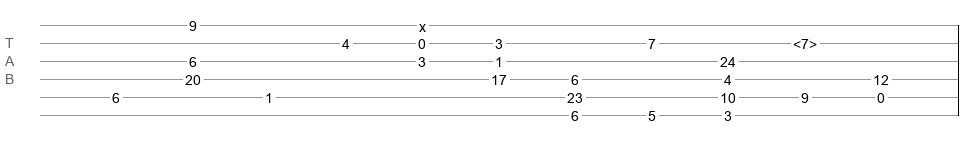0: (418, 36, 426, 46), (877, 90, 885, 100)
1: (265, 90, 273, 100), (495, 54, 503, 64)
10: (720, 90, 736, 100)
12: (873, 72, 889, 82)
17: (491, 72, 507, 82)
20: (185, 72, 201, 82)
23: (567, 90, 583, 100)
24: (720, 54, 736, 64)
3: (418, 54, 426, 64), (495, 36, 503, 46), (724, 108, 732, 118)
4: (342, 36, 350, 46), (724, 72, 732, 82)
5: (648, 108, 656, 118)
6: (112, 90, 120, 100), (189, 54, 197, 64), (571, 108, 579, 118), (571, 72, 579, 82)
7: (648, 36, 656, 46)
9: (189, 18, 197, 28), (801, 90, 809, 100)
harmonic: (793, 36, 817, 46)
x: (419, 19, 426, 27)
